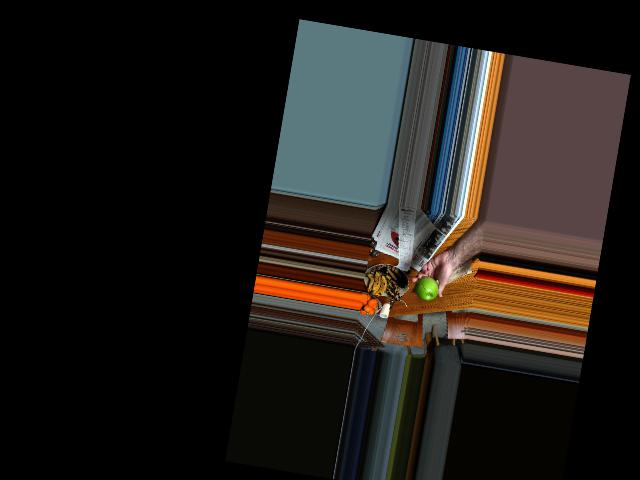apple: (413, 273, 439, 303)
